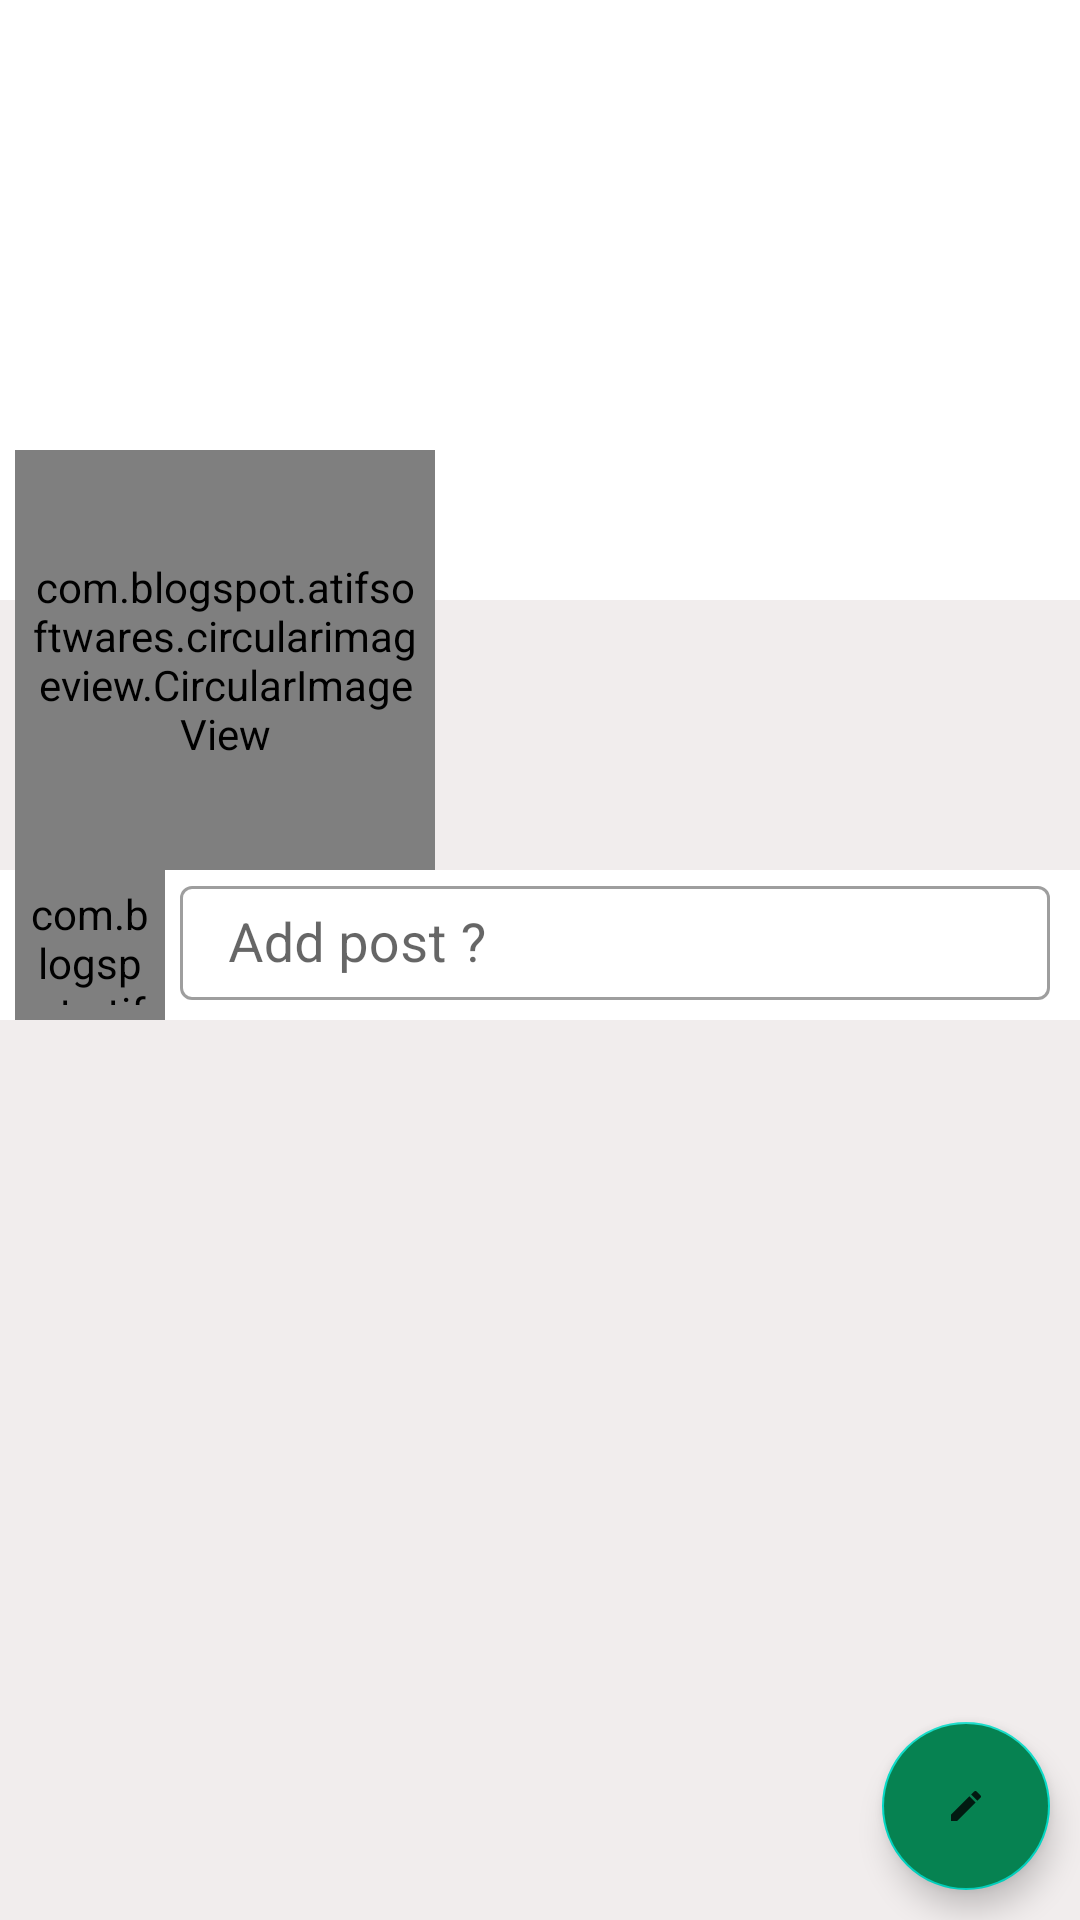

Icons on this 1080px x 1920px Android screen, each with the point to tap as (x=x, y=y):
Add new item: (x=966, y=1806)
